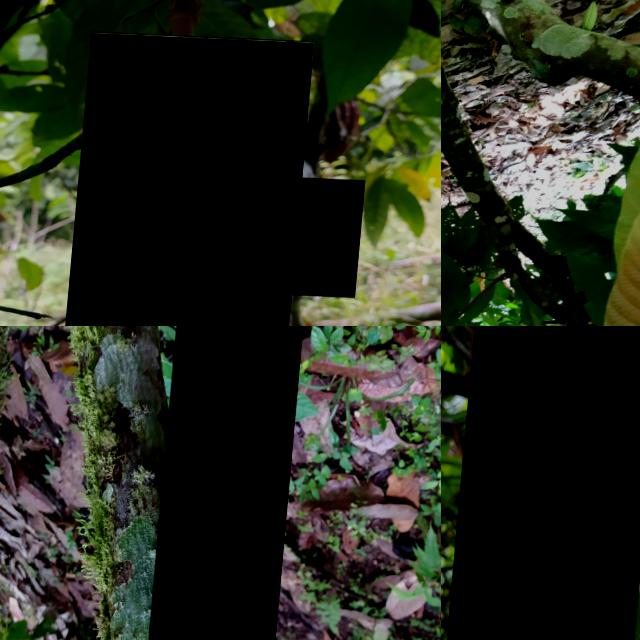Fitoftora: (156, 326, 309, 640)
Monilia: (70, 30, 317, 326), (447, 326, 640, 640)
Sana: (293, 174, 371, 293)
